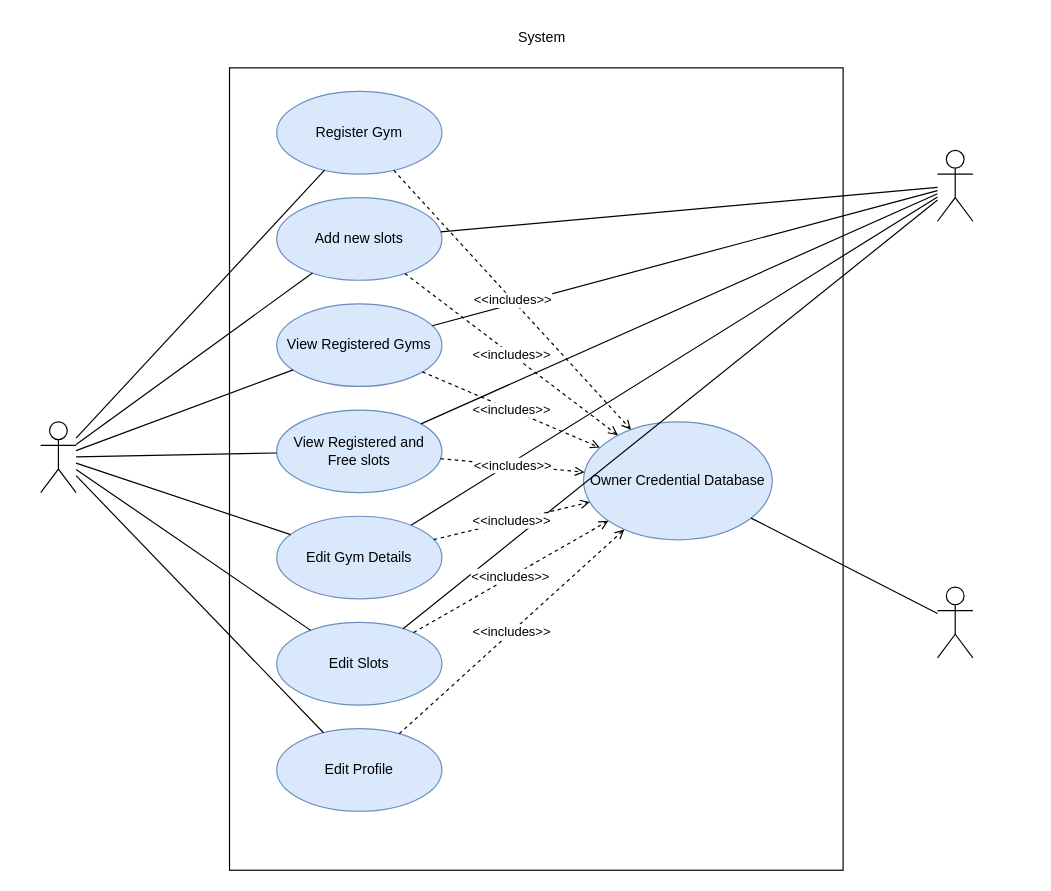
The diagram is 1051 pixels wide and 891 high, and some of its shapes have lost their labels. The box of each missing label's shape, as (x1, y1, x2, y2) in pixels:
GMS Credential Service: (936, 586, 973, 658)
GMS Gym Service: (936, 149, 973, 221)
Gym Owner: (40, 421, 76, 493)
